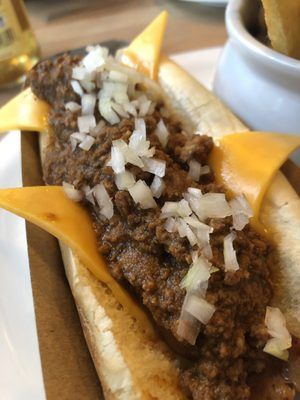pizza: (215, 0, 300, 136), (0, 0, 41, 91)
soup: (24, 26, 300, 397)
sushi: (215, 0, 300, 136)
